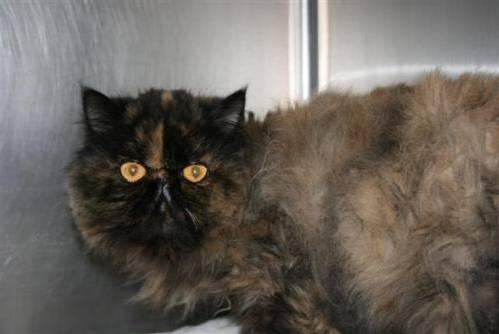cat: (65, 72, 498, 333)
